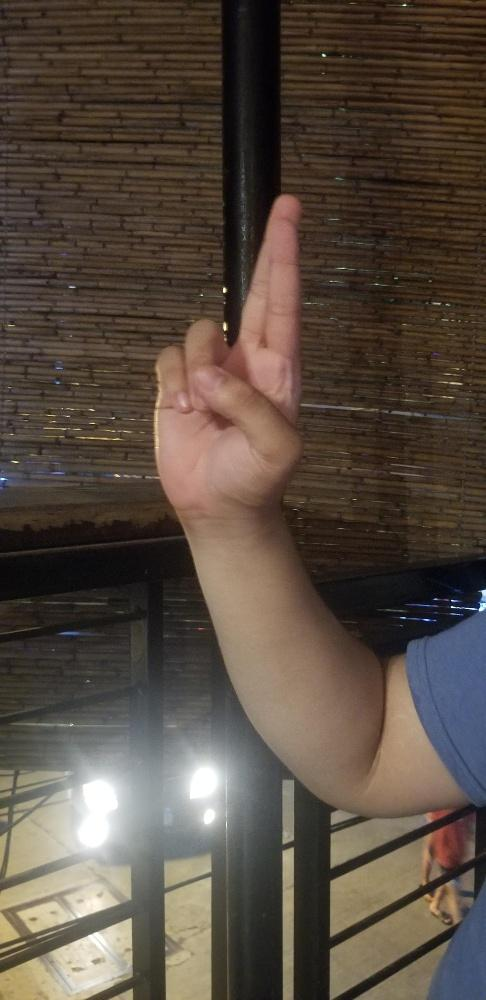r: (151, 190, 304, 496)
